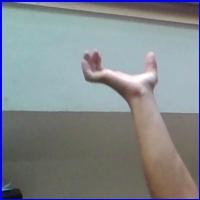space: (77, 45, 166, 102)
